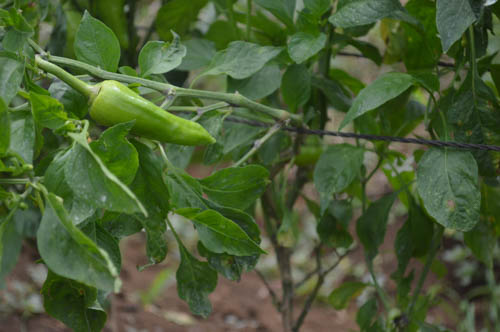ChiliPepper: (88, 82, 218, 147)
